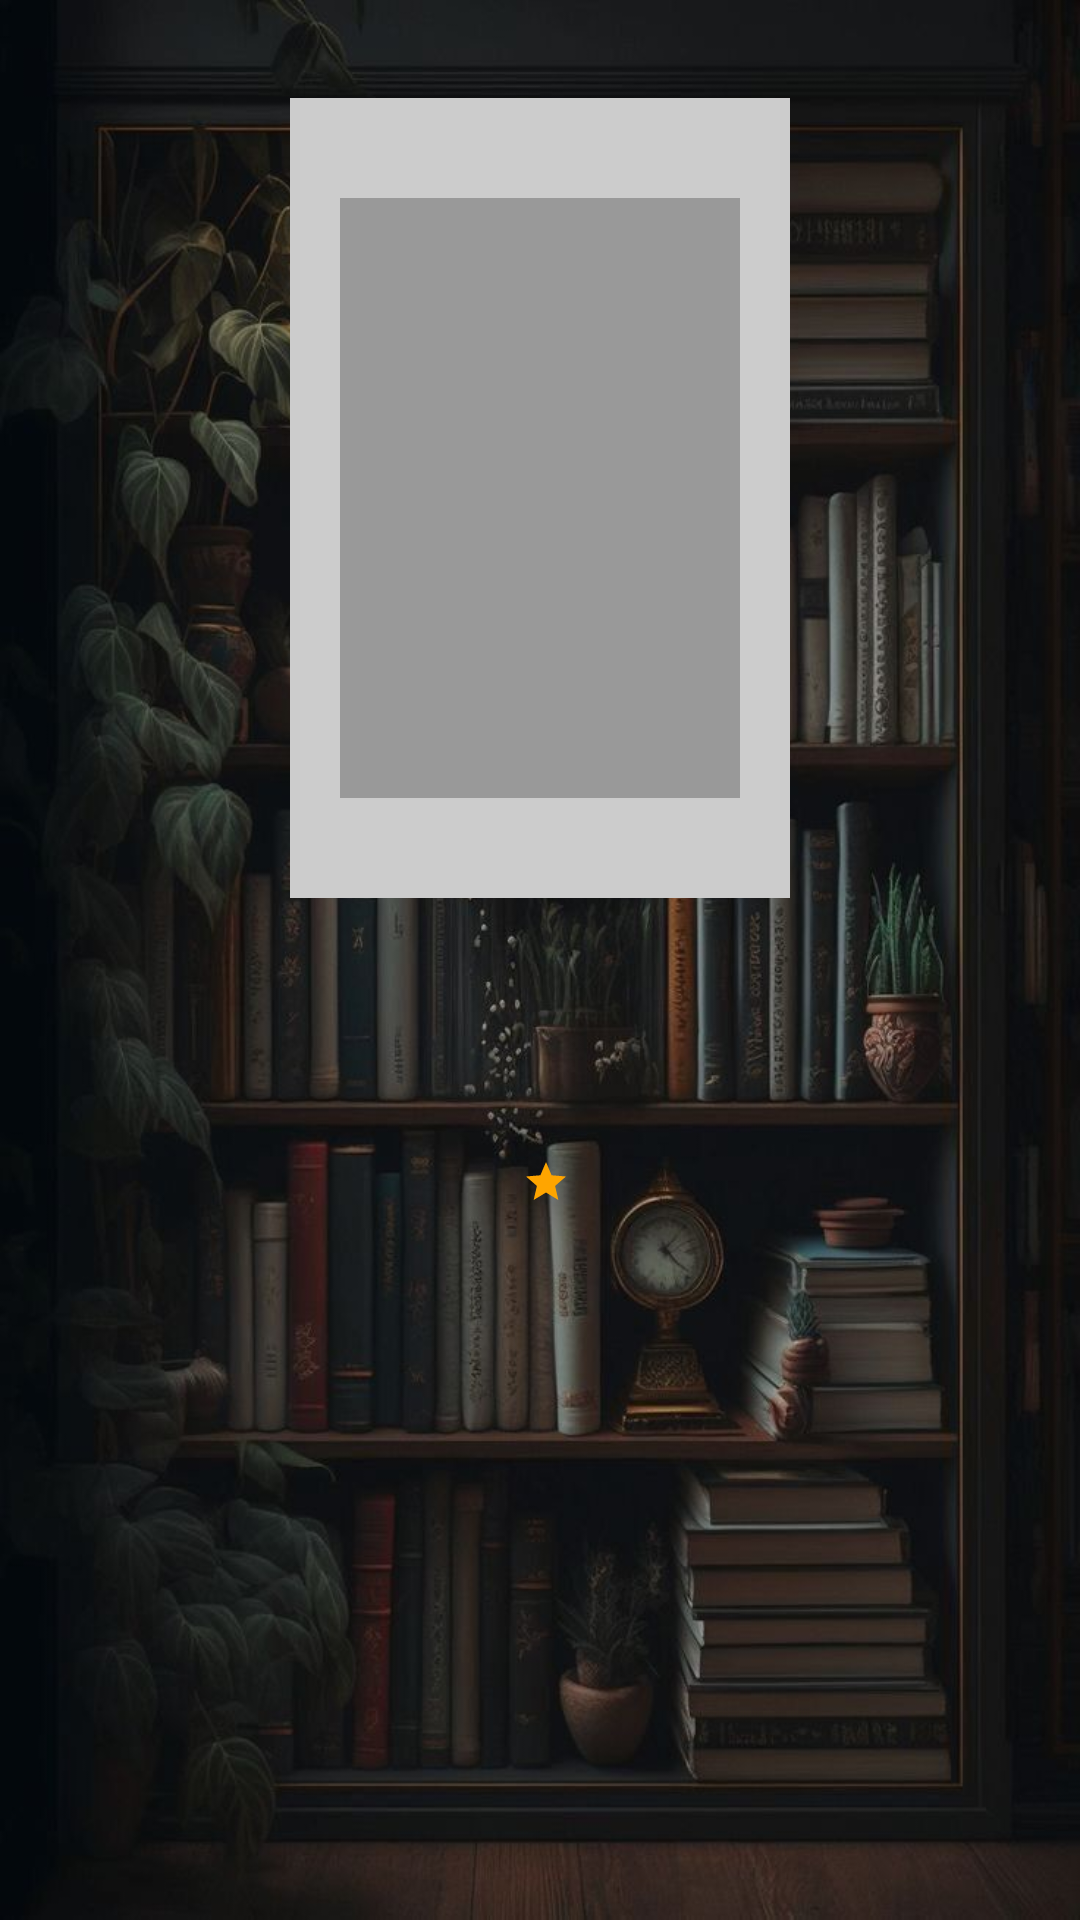

Icon click points for this 1080 x 1920 phone screenshot, format point (x, y):
star: point (546, 1182)
